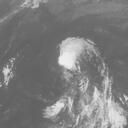cyclone: (56, 37, 90, 68)
